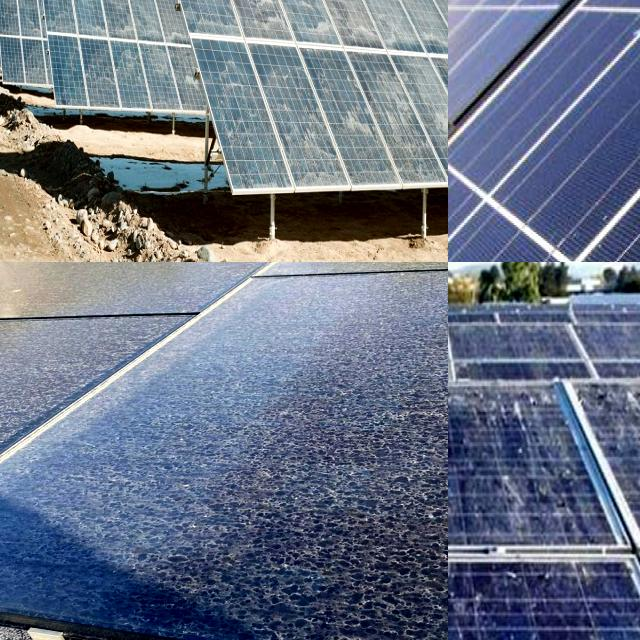bird: (448, 608, 467, 640), (448, 617, 468, 635)
crack: (448, 0, 640, 262)
dust: (108, 398, 266, 623), (270, 420, 352, 634), (356, 394, 448, 580), (0, 442, 92, 602), (231, 48, 320, 196), (51, 0, 187, 88), (248, 280, 342, 392), (35, 262, 225, 315), (358, 310, 448, 387), (338, 60, 397, 173), (3, 320, 60, 400), (183, 0, 272, 49), (0, 0, 53, 82), (282, 0, 361, 49), (366, 0, 409, 47), (412, 0, 448, 52), (376, 278, 448, 304), (431, 80, 448, 163), (0, 4, 12, 60)
